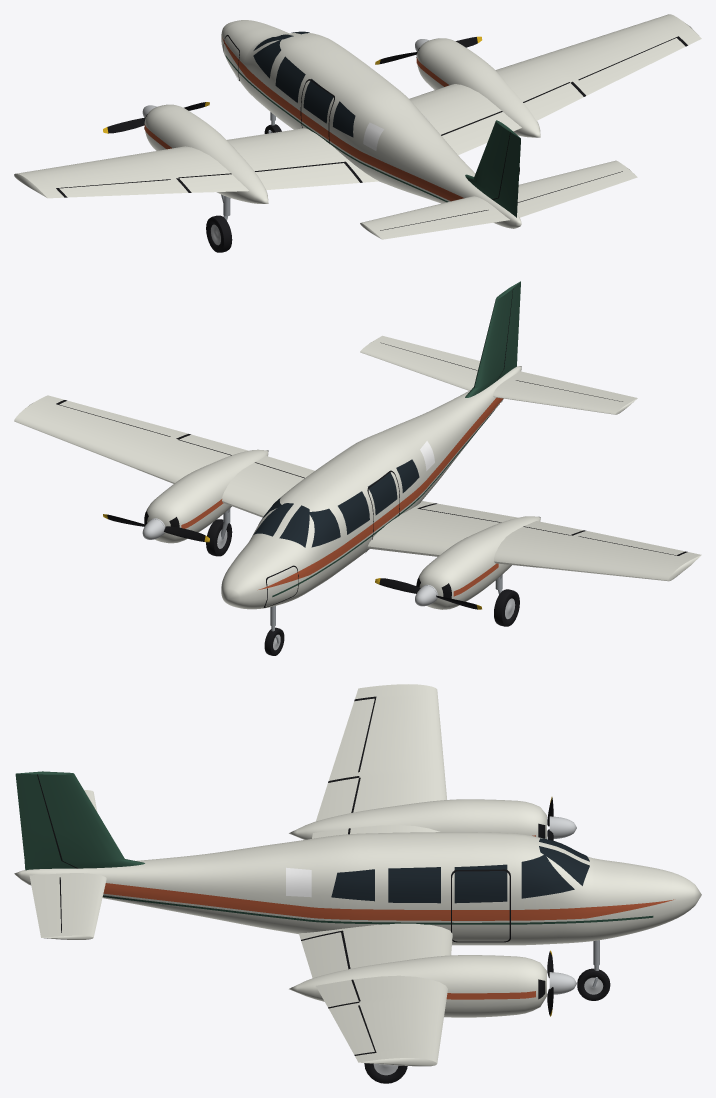
Rendered from jaz-40.glb.
The picture shows the model from 3 angles, top to bottom: view 1: azimuth 30°, elevation 25°; view 2: azimuth 150°, elevation 25°; view 3: azimuth 270°, elevation 25°; orthographic projection. The views are drawn at different scales.
Visible parts, largest first — view 1: ala, fuselaje, gondola, estabilizador, ventanillas, cintura, deriva, flap-dentro-izquierda-piel, aleron-derecha-piel, profundidad-derecha-piel, aleron-izquierda-piel, profundidad-izquierda-piel (+8 smaller); view 2: ala, fuselaje, gondola, estabilizador, ventanillas, deriva, cintura, parabrisas, profundidad-izquierda-piel, profundidad-derecha-piel, aleron-derecha-piel, timon-de-direccion-piel (+4 smaller); view 3: fuselaje, ala, gondola, ventanillas, cintura, deriva, estabilizador, timon-de-direccion-piel, aleron-izquierda-piel, flap-dentro-derecha-piel, profundidad-derecha-piel, cintura-fina (+8 smaller).
Part boxes in pixels (x1,y1,x2,y2): ala: [14, 14, 701, 198]; fuselaje: [221, 20, 521, 228]; gondola: [144, 38, 540, 203]; estabilizador: [360, 160, 637, 239]; ventanillas: [253, 39, 355, 137]; cintura: [222, 37, 464, 201]; deriva: [465, 120, 519, 217]; flap-dentro-izquierda-piel: [262, 163, 359, 189]; aleron-derecha-piel: [579, 38, 685, 93]; profundidad-derecha-piel: [517, 171, 631, 214]; aleron-izquierda-piel: [59, 180, 181, 197]; profundidad-izquierda-piel: [380, 210, 500, 238]; ala: [14, 395, 701, 581]; fuselaje: [221, 366, 521, 609]; gondola: [146, 449, 540, 609]; estabilizador: [360, 335, 637, 414]; ventanillas: [258, 459, 419, 547]; deriva: [465, 281, 520, 397]; cintura: [258, 397, 503, 589]; parabrisas: [253, 503, 309, 547]; profundidad-izquierda-piel: [516, 373, 631, 401]; profundidad-derecha-piel: [380, 337, 480, 370]; aleron-derecha-piel: [59, 400, 181, 436]; timon-de-direccion-piel: [504, 281, 520, 368]; fuselaje: [14, 832, 701, 945]; ala: [299, 684, 452, 1066]; gondola: [289, 799, 546, 1017]; ventanillas: [331, 837, 574, 903]; cintura: [103, 883, 673, 920]; deriva: [16, 771, 144, 870]; estabilizador: [29, 790, 106, 939]; timon-de-direccion-piel: [15, 773, 61, 860]; aleron-izquierda-piel: [330, 698, 374, 776]; flap-dentro-derecha-piel: [301, 932, 347, 974]; profundidad-derecha-piel: [30, 877, 61, 934]; cintura-fina: [102, 895, 653, 924].
Size of the model in its own units: 11.89 by 3.35 by 9.15.
